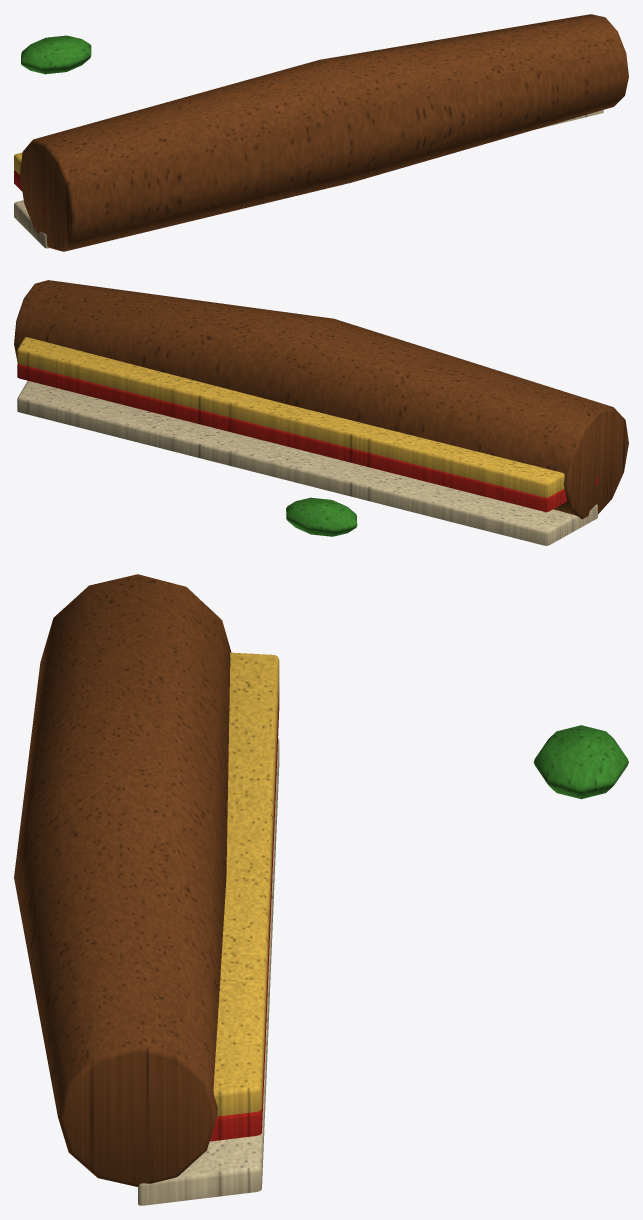
Rendered from food-08-residue.glb.
3 renders of one model, top to bottom at view 1: azimuth 30°, elevation 25°; view 2: azimuth 150°, elevation 25°; view 3: azimuth 270°, elevation 25°, orthographic. The views are drawn at different scales.
Visible parts, largest first — view 1: Food; view 2: Food; view 3: Food.
Part boxes in pixels (x1=…): Food: x1=14, y1=14, x2=628, y2=251; Food: x1=14, y1=280, x2=628, y2=545; Food: x1=14, y1=574, x2=628, y2=1205.
Bounding box in the file's own units: 0.6142 × 0.125 × 0.3474.
Materials: 1 (1 with a texture image).
